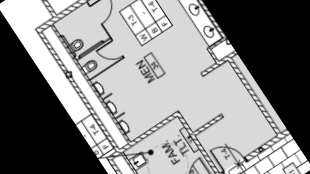door: (209, 137, 245, 174), (94, 37, 125, 68), (87, 0, 121, 26), (177, 154, 218, 174)
wall: (48, 22, 134, 145), (37, 31, 122, 154), (33, 0, 169, 37), (225, 57, 283, 138), (104, 107, 184, 163), (172, 107, 229, 174), (159, 0, 229, 44), (242, 128, 292, 165), (197, 49, 239, 80), (119, 151, 165, 174), (191, 110, 227, 139), (104, 154, 156, 174), (29, 0, 60, 20), (204, 35, 228, 54), (205, 46, 221, 65)
